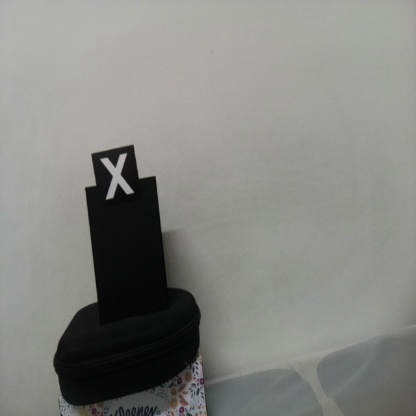id_13: (92, 152, 140, 208)
